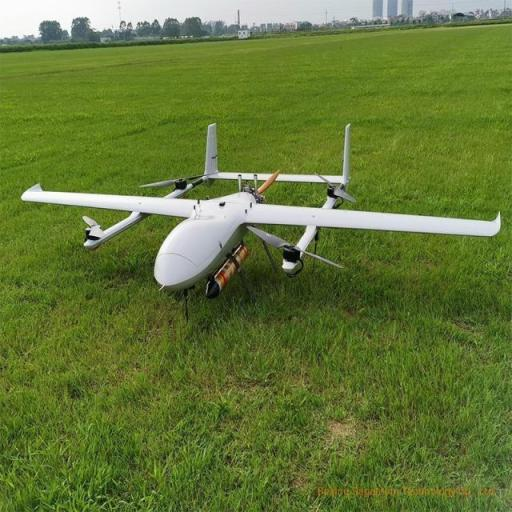uav: (20, 117, 504, 308)
